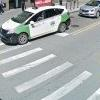Crosswalk: (2, 51, 100, 100)
